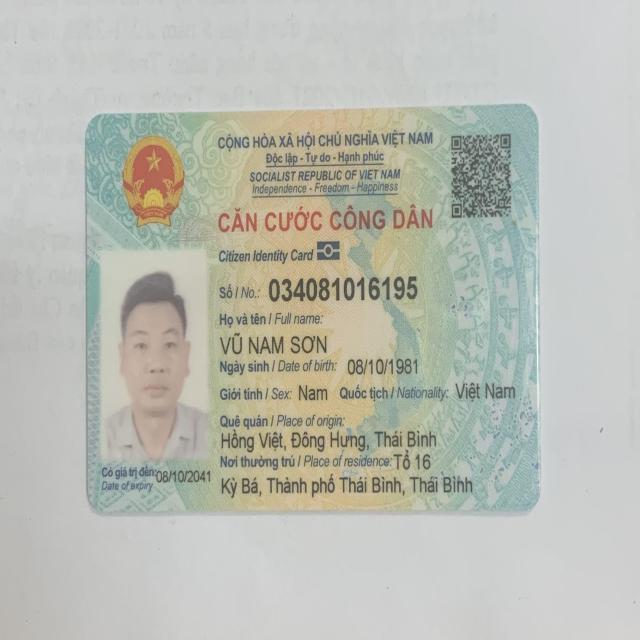current_place: (219, 472, 474, 501), (392, 449, 431, 471)
dob: (344, 357, 420, 375)
expire_date: (154, 465, 212, 488)
gender: (298, 381, 335, 401)
id: (267, 275, 420, 303)
name: (220, 330, 330, 358)
nationality: (452, 377, 515, 401)
origin_place: (220, 428, 438, 451)
